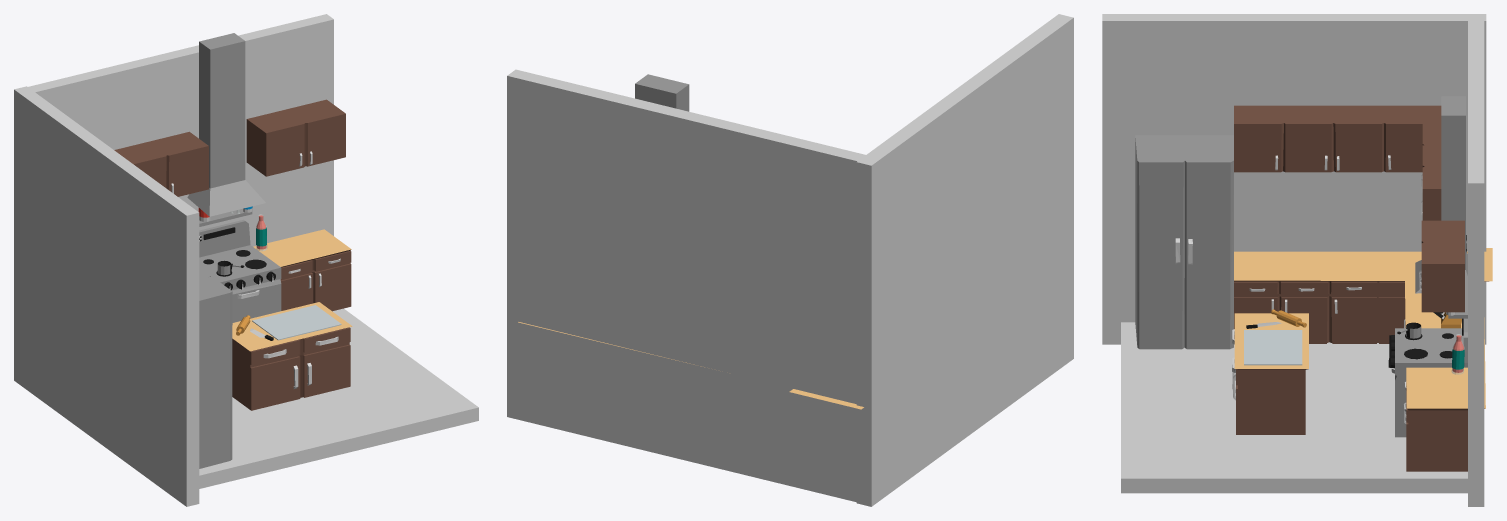
File: kitt.glb
3 views of the same model, side by side, from view 1: azimuth 30°, elevation 25°; view 2: azimuth 150°, elevation 25°; view 3: azimuth 270°, elevation 25° (orthographic). The views are drawn at different scales.
Parts seen in each view (by area): view 1: group9585808, group1810159463, group107145946, group1348253054, group1000109285, group536980032, group384672652, group1142142446, group900006215, group1955243732, group1999118543; view 2: group1810159463, group9585808, group1000109285; view 3: group9585808, group107145946, group536980032, group1913738476, group2142097961, group1810159463, group1142142446, group1348253054, group384672652, group1000109285, group900006215, group1999118543 (+2 smaller).
Boxes of the visible parts, x1,y1,x2,y2 form: group9585808: (14, 86, 199, 506); group1810159463: (28, 14, 333, 246); group107145946: (199, 308, 478, 488); group1348253054: (232, 302, 352, 410); group1000109285: (187, 33, 265, 216); group536980032: (199, 267, 232, 468); group384672652: (246, 99, 345, 176); group1142142446: (253, 229, 351, 311); group900006215: (199, 219, 281, 322); group1955243732: (114, 131, 208, 196); group1999118543: (252, 305, 341, 340); group1810159463: (507, 69, 865, 502); group9585808: (856, 14, 1073, 506); group1000109285: (635, 74, 689, 111); group9585808: (1102, 14, 1486, 344); group107145946: (1121, 322, 1467, 493); group536980032: (1135, 135, 1233, 349); group1913738476: (1234, 248, 1492, 343); group2142097961: (1234, 105, 1441, 172); group1810159463: (1468, 21, 1484, 506); group1142142446: (1405, 281, 1485, 471); group1348253054: (1234, 313, 1308, 434); group384672652: (1421, 220, 1464, 312); group1000109285: (1415, 96, 1467, 293); group900006215: (1395, 318, 1467, 437); group1999118543: (1244, 330, 1302, 365).
Bounding box in the file's own units: 5.61 × 5.21 × 5.47.
